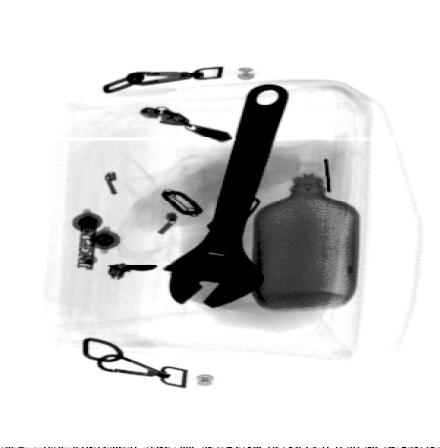Wrench: (162, 82, 292, 309)
